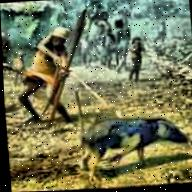boar: (71, 101, 192, 174)
